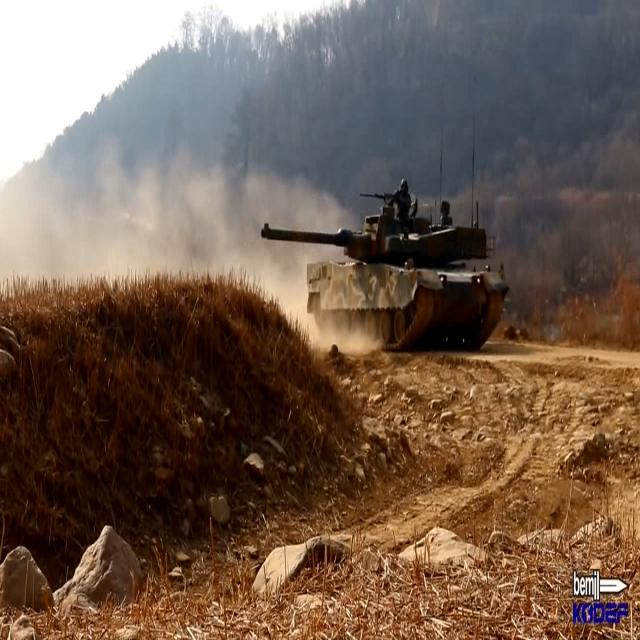korea tank: (260, 175, 512, 355)
